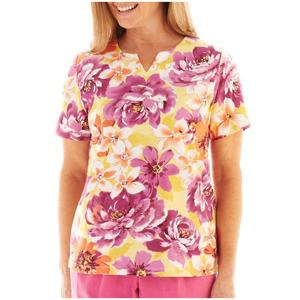C_short blouse: (44, 31, 259, 285)
